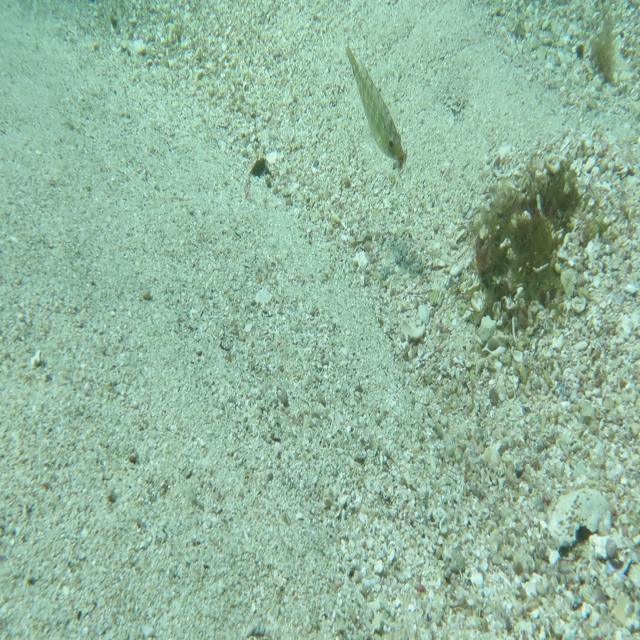AM: (344, 40, 405, 165)
core_nest: (539, 170, 574, 205)
nest: (470, 153, 586, 340)
nest_material: (396, 148, 408, 176)
vegetation: (588, 10, 621, 91), (249, 154, 269, 180)
